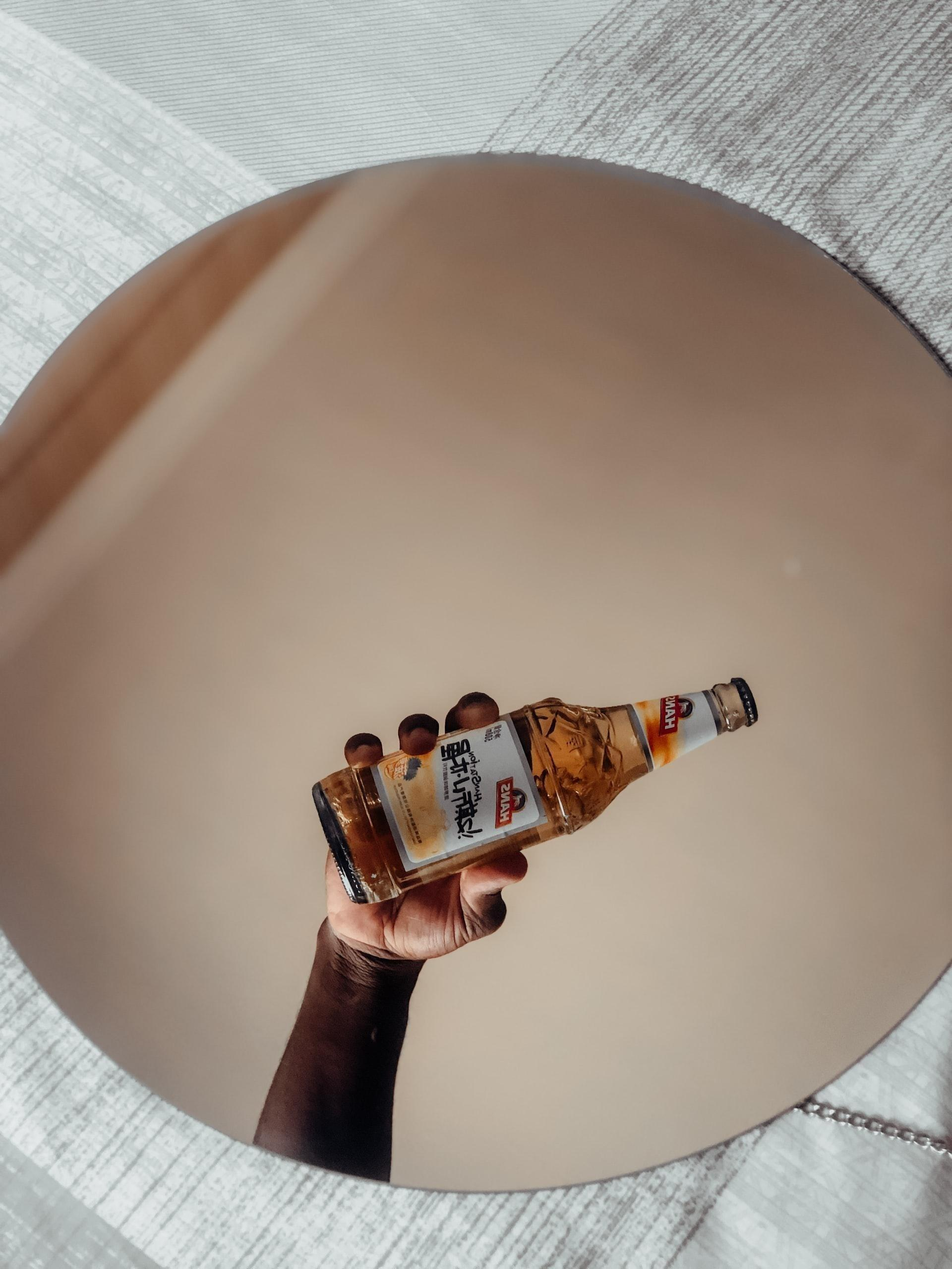bottle-glass: (306, 670, 769, 914)
